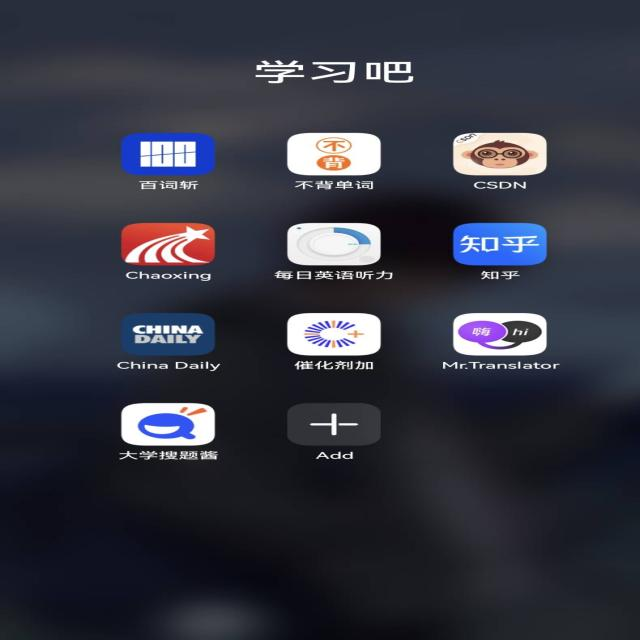Icon: (265, 401, 415, 450), (451, 313, 549, 356), (287, 132, 382, 176), (287, 223, 382, 266), (287, 313, 382, 356), (120, 223, 214, 266), (120, 313, 214, 356), (120, 403, 214, 446), (454, 133, 549, 175), (454, 223, 549, 265), (120, 133, 214, 175)
